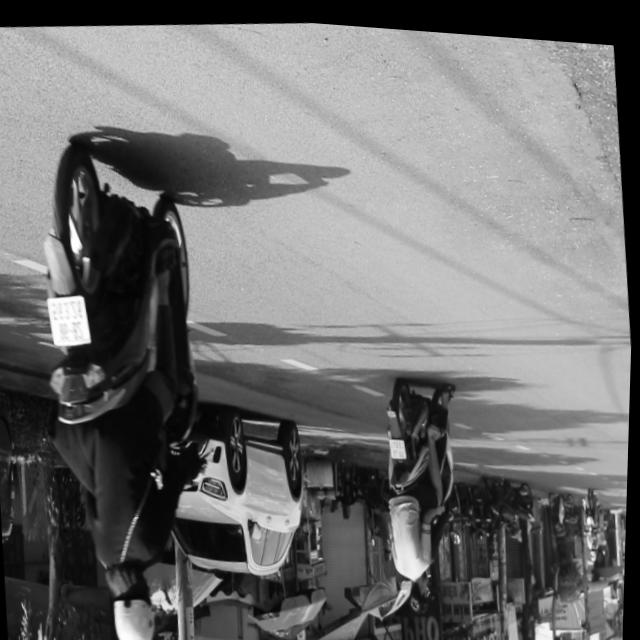helmet: (109, 564, 164, 640)
licenseplate: (16, 123, 235, 640), (373, 366, 473, 614)
motorcyclist: (410, 565, 436, 609)
nohelmet: (47, 294, 93, 347), (390, 432, 408, 454)
